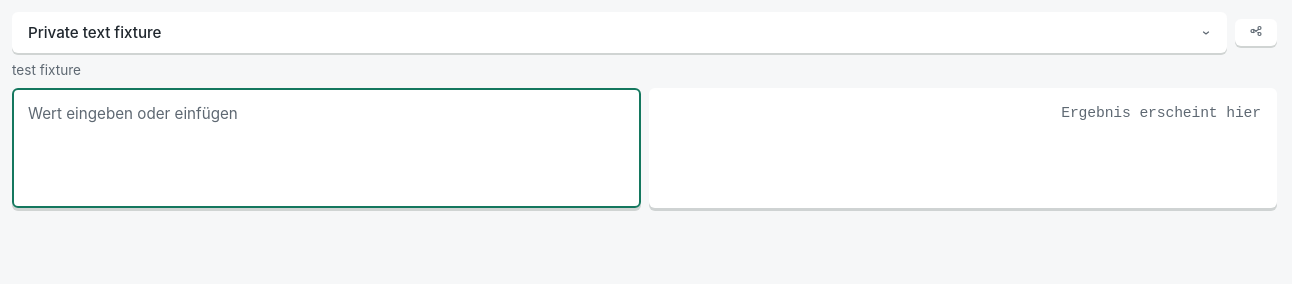
Test case: text-tool failures use the stable localized notice and a new input clears it
Type "bad" into the text box named "Werkzeugeingabe" at (326, 148), box [12, 88, 640, 208]
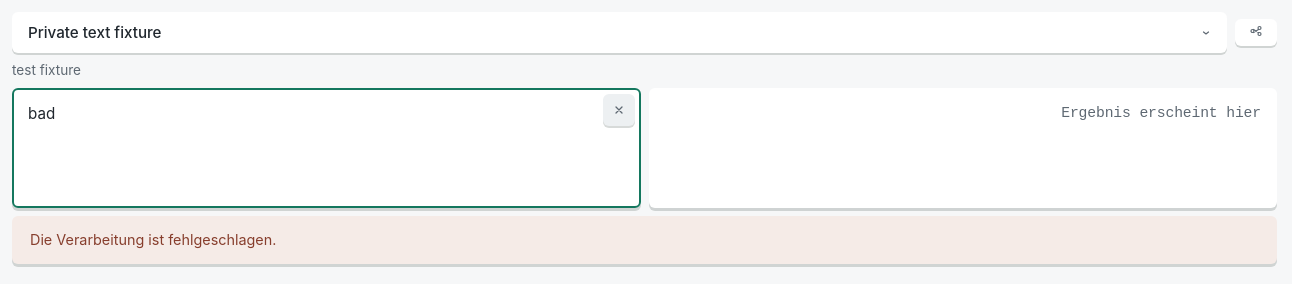
Expected: the message does not show "Alice private payload", [12, 216, 1277, 264]
Result: the message reads "Die Verarbeitung ist fehlgeschlagen." at [30, 231, 276, 248]
Replace the text in the text box named "Werkzeugeingabe" with "good" at (326, 148), box [12, 88, 640, 208]
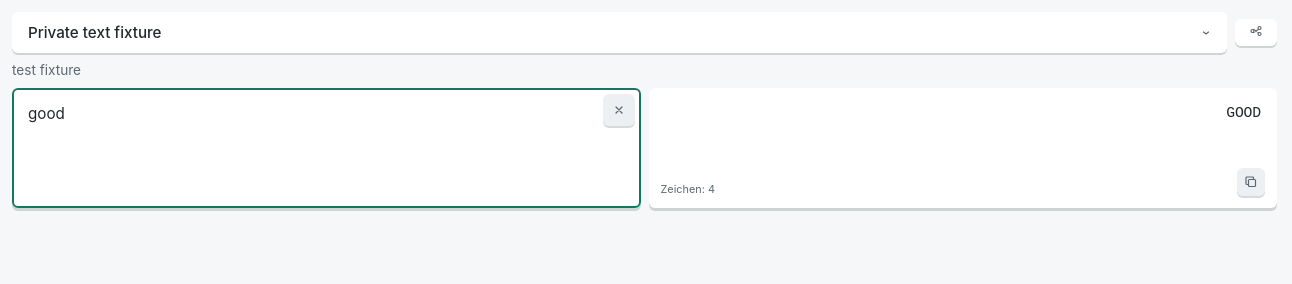
Expected: the message "Die Verarbeitung ist fehlgeschlagen." is not shown
Result: the text box named "Werkzeugergebnis" holds "GOOD" at [648, 88, 1277, 208]
